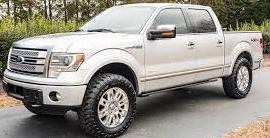Trucks: (5, 5, 264, 138)
